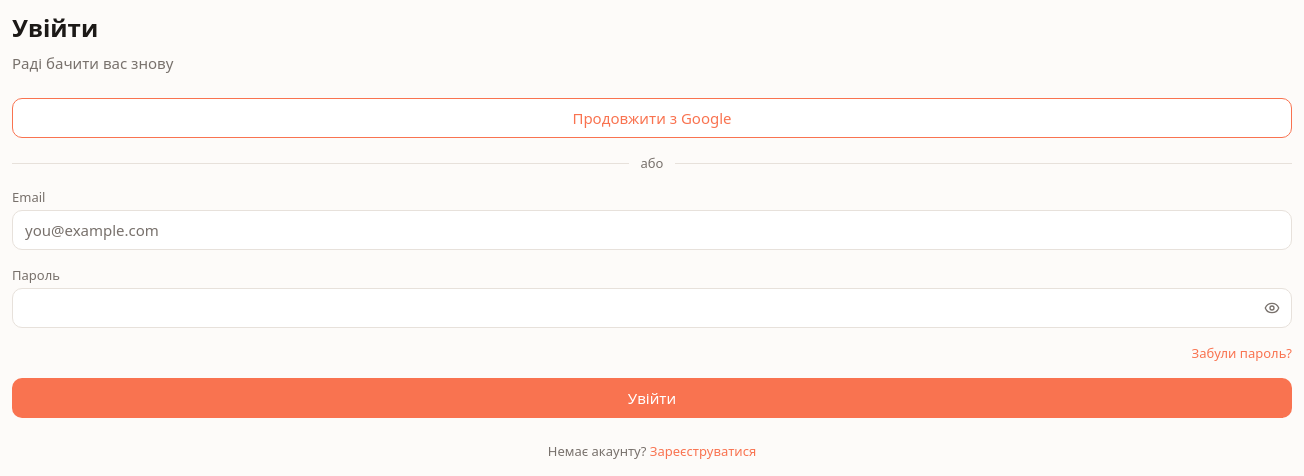
Scenario: LoginForm › stays busy until it has moved on, so a second click signs in only once
The width and height of the screenshot is (1304, 476).
Type "a@b.co" into the field labelled "Email" at (652, 230), box [12,210,1292,250]
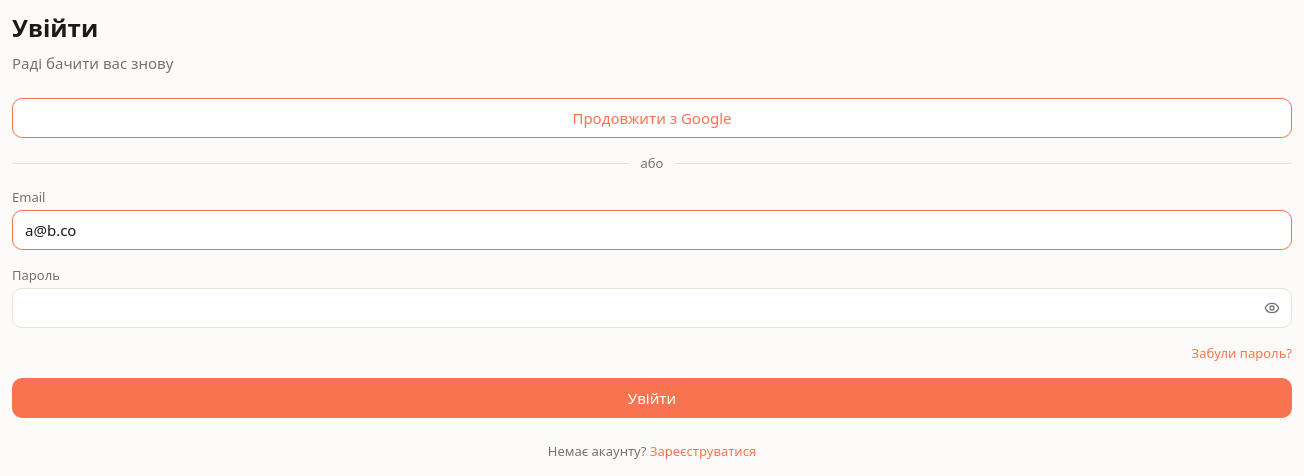
Type "secret" into the password field labelled "Пароль" at (652, 308), box [12,288,1292,328]
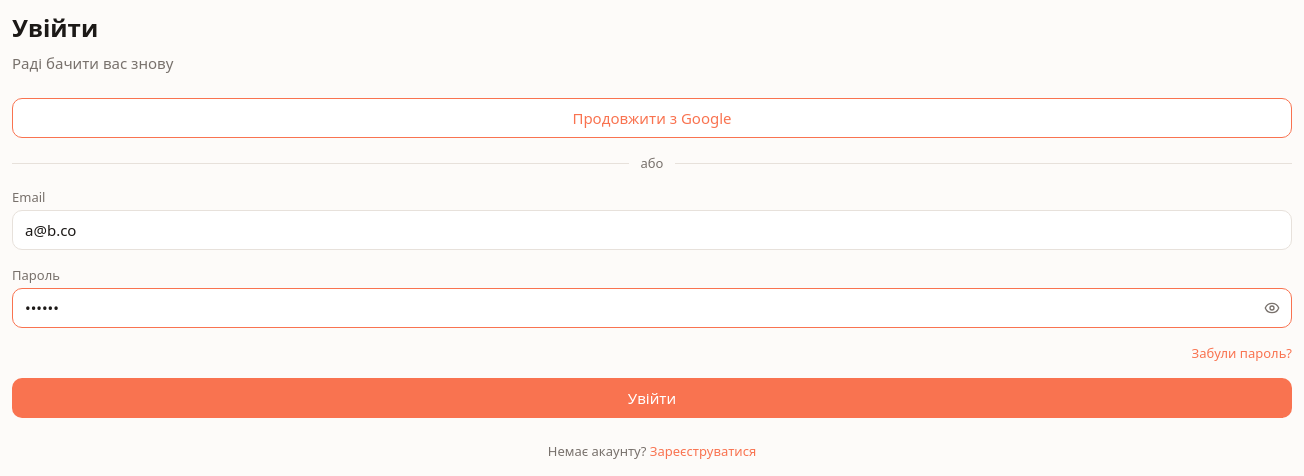
Click the button "Увійти" at (652, 398), box [12,378,1292,418]
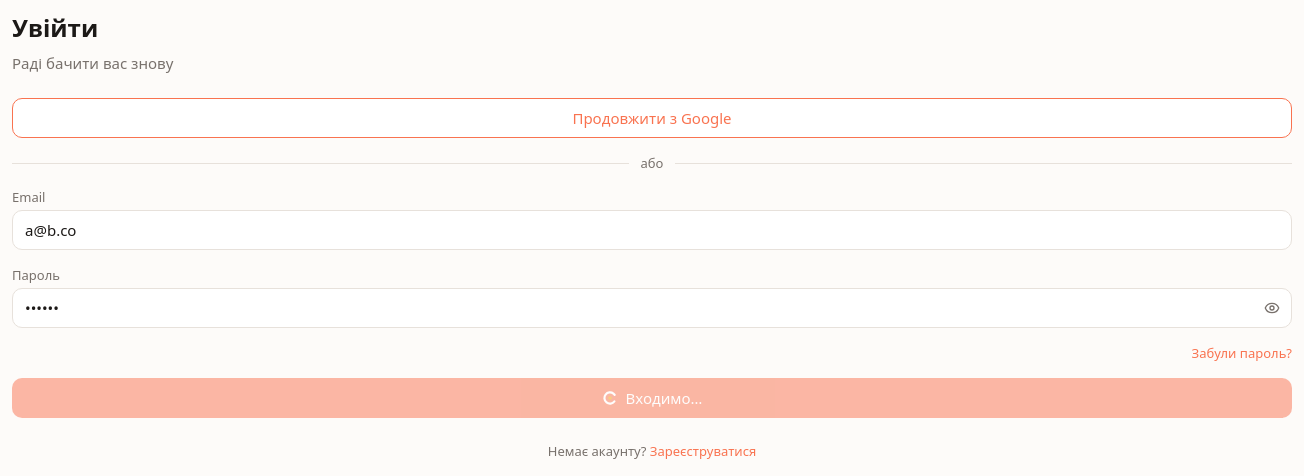
Expected: the button "Входимо…" is disabled, [12,378,1292,418]
